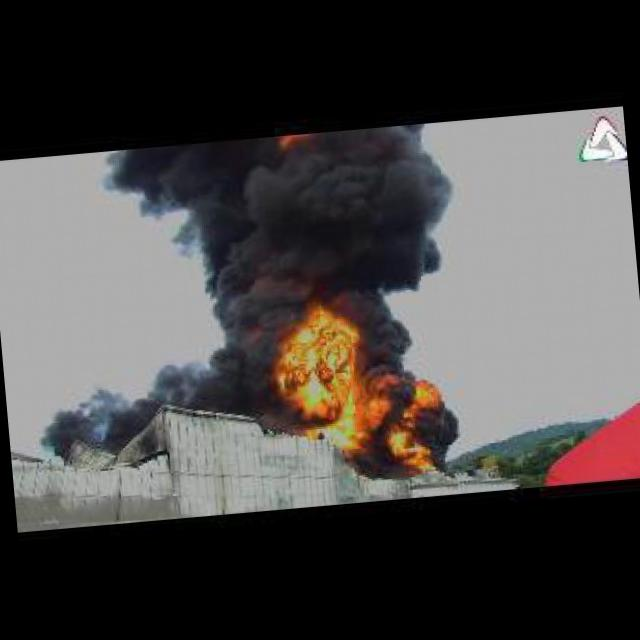fire: (276, 304, 368, 454), (384, 368, 451, 477)
smoke: (98, 118, 474, 332), (27, 338, 287, 466)
